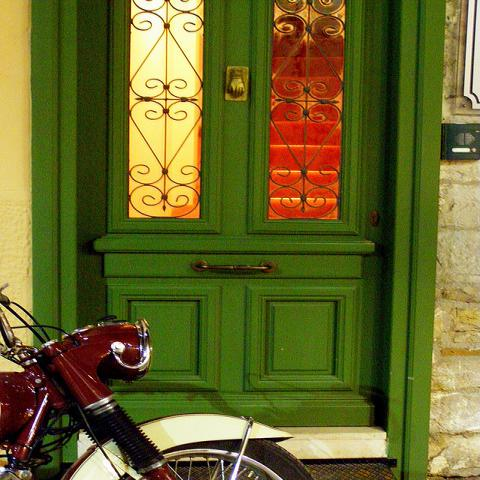motorcycle: (3, 281, 316, 472)
